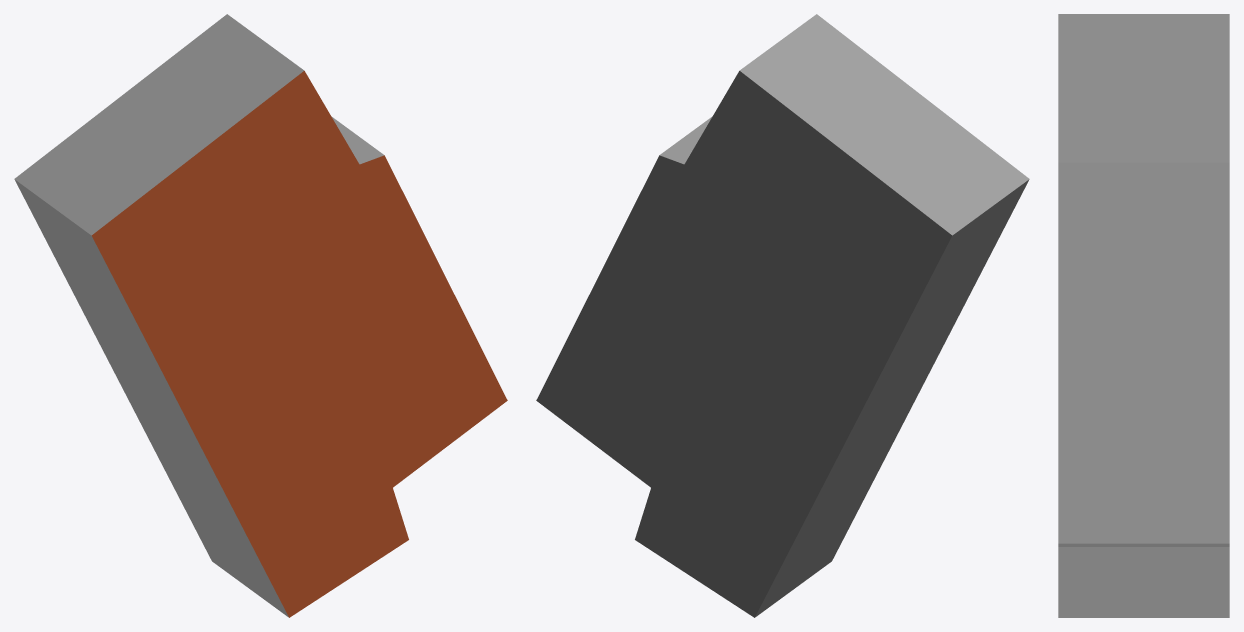
The model's file is construction_2319_assumed_A_Casa_h6m.obj.
3 views of the same model, side by side, from view 1: azimuth 30°, elevation 25°; view 2: azimuth 150°, elevation 25°; view 3: azimuth 270°, elevation 25° (orthographic). The views are drawn at different scales.
Visible parts, largest first — view 1: construction_2319_assumed_A_Casa; view 2: construction_2319_assumed_A_Casa; view 3: construction_2319_assumed_A_Casa.
Boxes of the visible parts, x1,y1,x2,y2 form: construction_2319_assumed_A_Casa: (14,14,507,617); construction_2319_assumed_A_Casa: (536,14,1029,617); construction_2319_assumed_A_Casa: (1058,14,1229,617).
Size of the model in its own units: 18.65 by 23.28 by 6.
